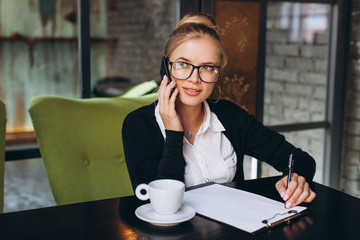phone: (156, 55, 180, 102)
talk: (150, 50, 222, 127)
